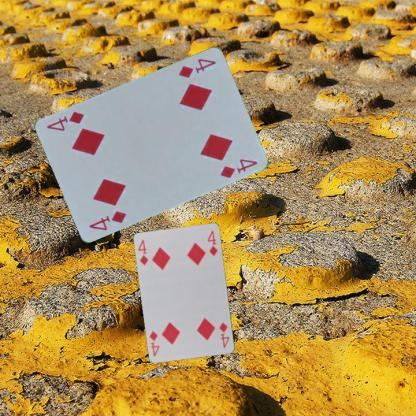4d: (87, 207, 129, 232), (176, 56, 217, 79), (216, 320, 231, 349), (136, 237, 150, 267)
